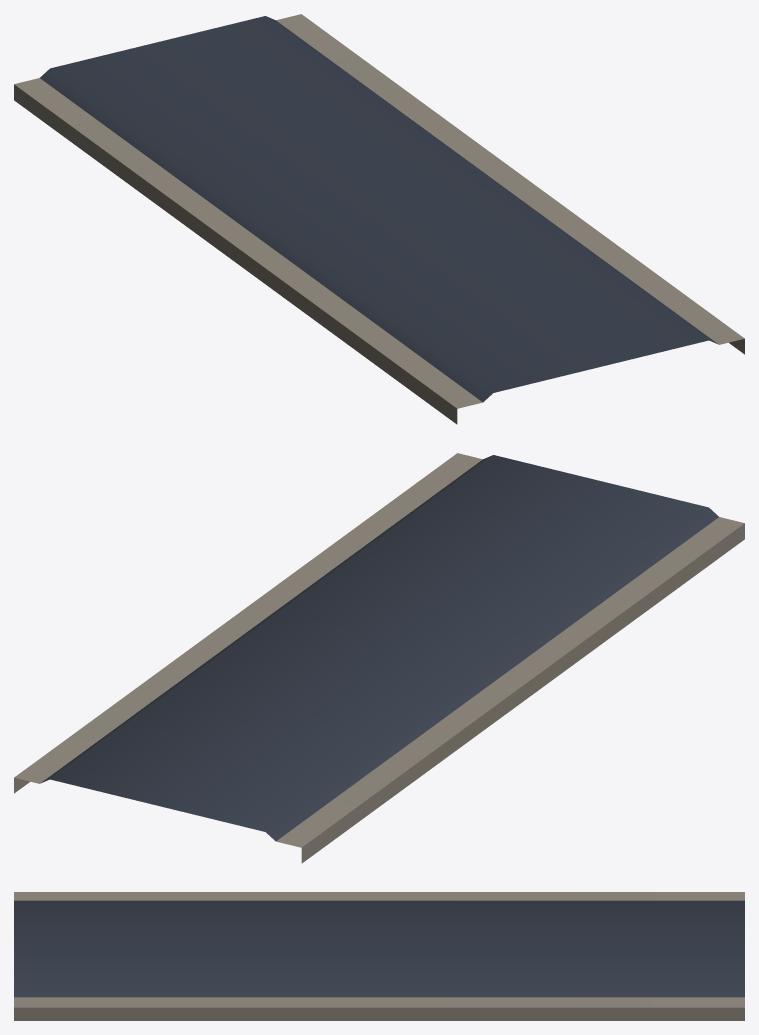
Rendered from RoadMid_2_E.fbx.
3 renders of one model, top to bottom at view 1: azimuth 30°, elevation 25°; view 2: azimuth 150°, elevation 25°; view 3: azimuth 270°, elevation 25°, orthographic. The views are drawn at different scales.
Parts seen in each view (by area): view 1: RoadMid_2_E; view 2: RoadMid_2_E; view 3: RoadMid_2_E.
Part boxes in pixels (left/top/right/bottom): RoadMid_2_E: left=14, top=14, right=744, bottom=424; RoadMid_2_E: left=14, top=453, right=744, bottom=863; RoadMid_2_E: left=14, top=892, right=744, bottom=1020.
Bounding box in the file's own units: 299 × 22.96 × 800.
